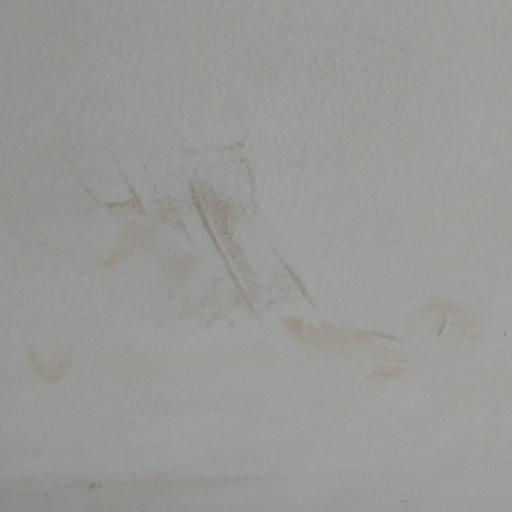stain: (29, 125, 509, 414)
